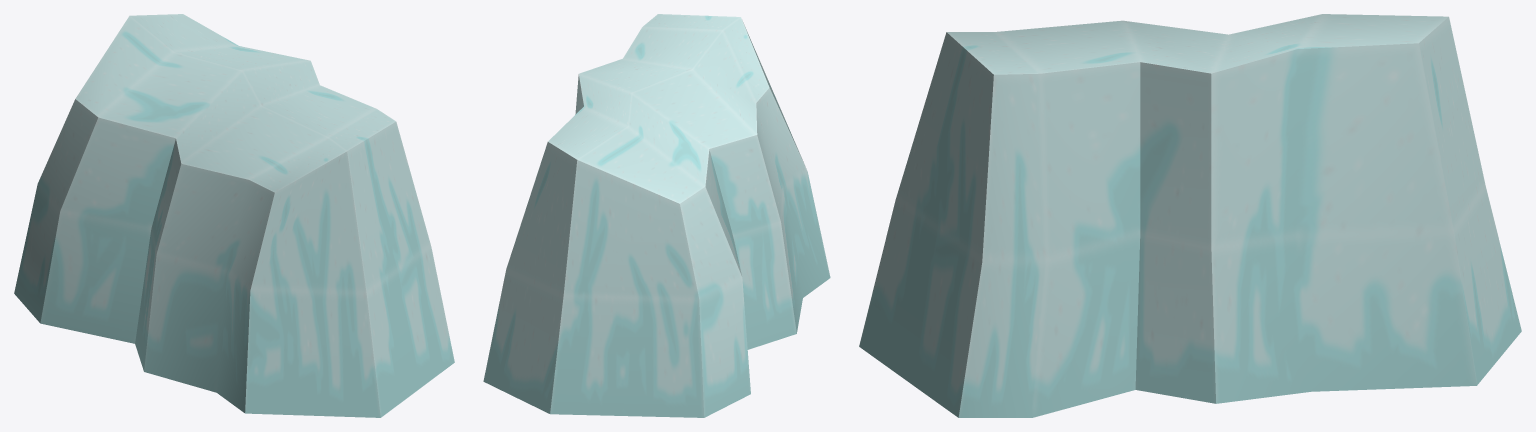
File: env_Ice_Cliff_D.FBX
3 renders of one model, left to right at view 1: azimuth 30°, elevation 25°; view 2: azimuth 150°, elevation 25°; view 3: azimuth 270°, elevation 25°, orthographic. The views are drawn at different scales.
Parts seen in each view (by area): view 1: env_Ice_Cliff_D; view 2: env_Ice_Cliff_D; view 3: env_Ice_Cliff_D.
Boxes of the visible parts, box(x1,y1,x2,y2) form: env_Ice_Cliff_D: box(14, 14, 454, 417); env_Ice_Cliff_D: box(483, 14, 830, 417); env_Ice_Cliff_D: box(859, 14, 1521, 417).
Bounding box in the file's own units: 1362 × 1163 × 2219.
